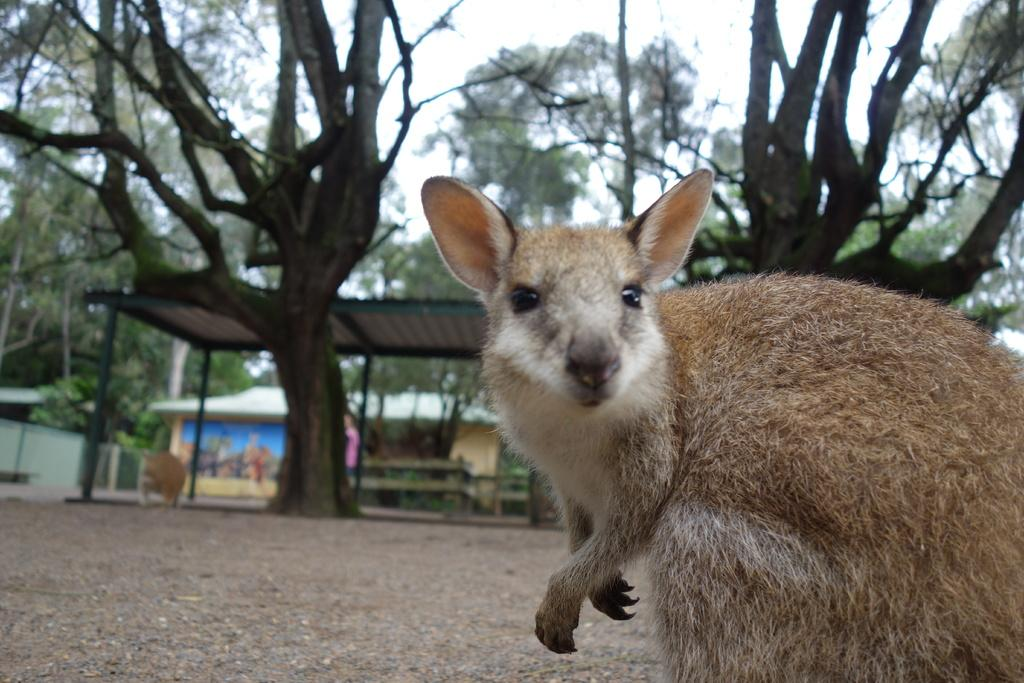kangaroo: (420, 166, 1024, 682)
